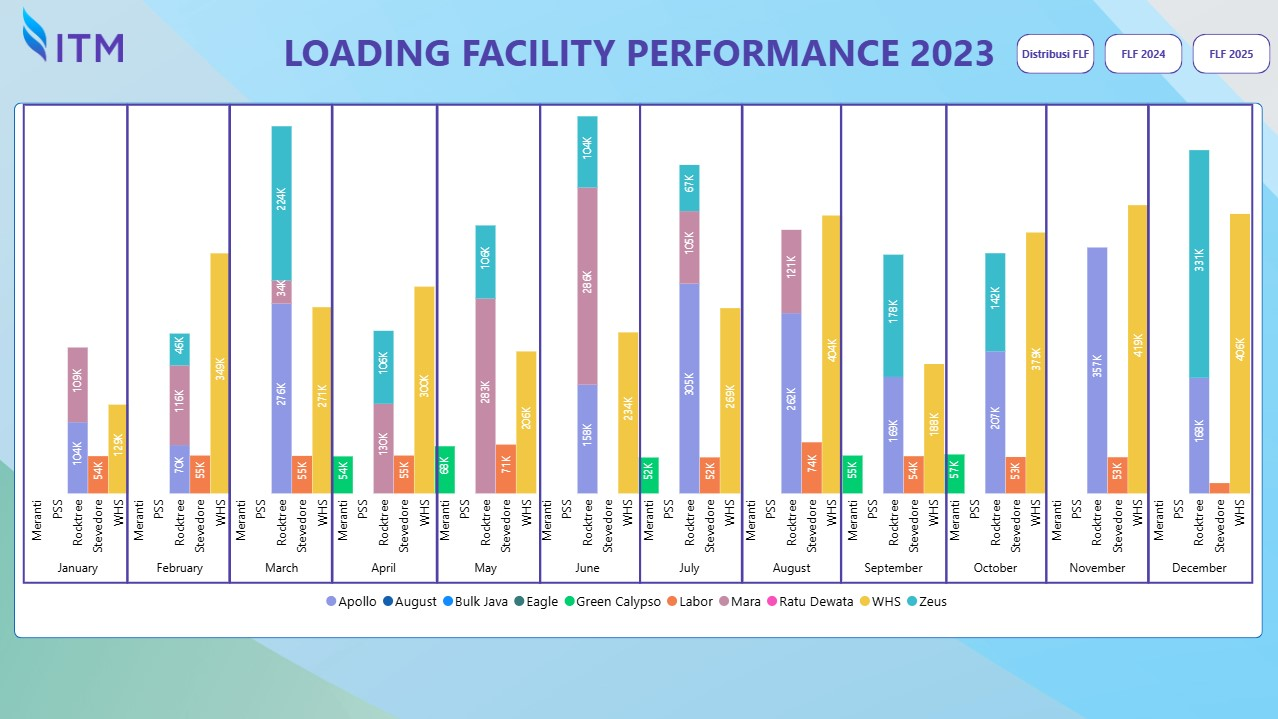

This screenshot's page, from the dashboard's own definition file:
{"tool":"powerbi","page":{"name":" FLF 2023","canvas":[1280,720],"ordinal":1},"visuals":[{"type":"shape","box":[15.5,102.4,1248.8,535.7],"z":0},{"type":"shape","box":[23.7,103.8,105.5,480],"z":1000,"group":"g1"},{"type":"columnChart","fields":{"Category":["Fact FLF.Month Name","Dim Mapping.Group"],"Series":["Fact FLF.FLF"],"Y":["Sum(Fact FLF.Amount)"]},"box":[15.3,102.1,1249.4,517.4],"z":1000},{"type":"textbox","box":[272.5,21.2,736.2,63.8],"z":2000},{"type":"shape","box":[127.5,103.8,103.8,480],"z":3000,"group":"g1"},{"type":"group","id":"g1","title":"Group 1","box":[23.7,103.8,1230.6,480],"z":3000},{"type":"shape","box":[229.7,103.8,103.8,480],"z":4000,"group":"g1"},{"type":"image","box":[0,1.4,148.2,65.9],"z":4000},{"type":"shape","box":[332.5,103.8,106.2,480],"z":5000,"group":"g1"},{"type":"pageNavigator","box":[1017.5,33.8,256.2,40],"z":5000},{"type":"shape","box":[437.5,103.8,105,480],"z":6000,"group":"g1"},{"type":"shape","box":[539.4,103.8,102.1,480],"z":7000,"group":"g1"},{"type":"shape","box":[639.9,103.8,103.8,480],"z":8000,"group":"g1"},{"type":"shape","box":[742,103.8,100.4,480],"z":9000,"group":"g1"},{"type":"shape","box":[840.7,103.8,107.2,480],"z":10000,"group":"g1"},{"type":"shape","box":[946.3,103.8,102.1,480],"z":11000,"group":"g1"},{"type":"shape","box":[1046.7,103.8,103.8,480],"z":12000,"group":"g1"},{"type":"shape","box":[1148.8,103.8,105.5,480],"z":13000,"group":"g1"}]}

Visuals, with their boxes in screenshot pixels (x1, y1, x2, y2), scaled from the page's 1280x720 canvas onto the 1278x719 screenshot:
shape: (15, 102, 1262, 637)
shape: (24, 104, 129, 583)
columnChart - Fact FLF.Month Name x Dim Mapping.Group: (15, 102, 1263, 619)
textbox: (272, 21, 1007, 85)
shape: (127, 104, 231, 583)
"Group 1" group: (24, 104, 1252, 583)
shape: (229, 104, 333, 583)
image: (0, 1, 148, 67)
shape: (332, 104, 438, 583)
pageNavigator: (1016, 34, 1272, 74)
shape: (437, 104, 542, 583)
shape: (539, 104, 640, 583)
shape: (639, 104, 743, 583)
shape: (741, 104, 841, 583)
shape: (839, 104, 946, 583)
shape: (945, 104, 1047, 583)
shape: (1045, 104, 1149, 583)
shape: (1147, 104, 1252, 583)
